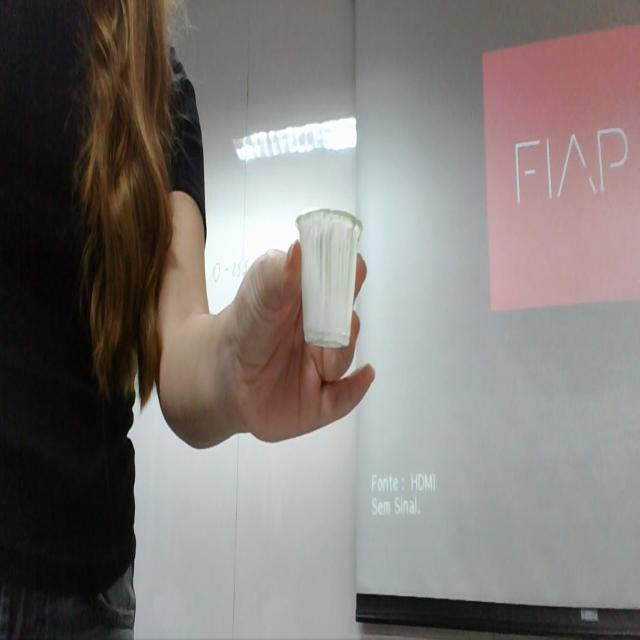planta: (295, 208, 362, 349)
